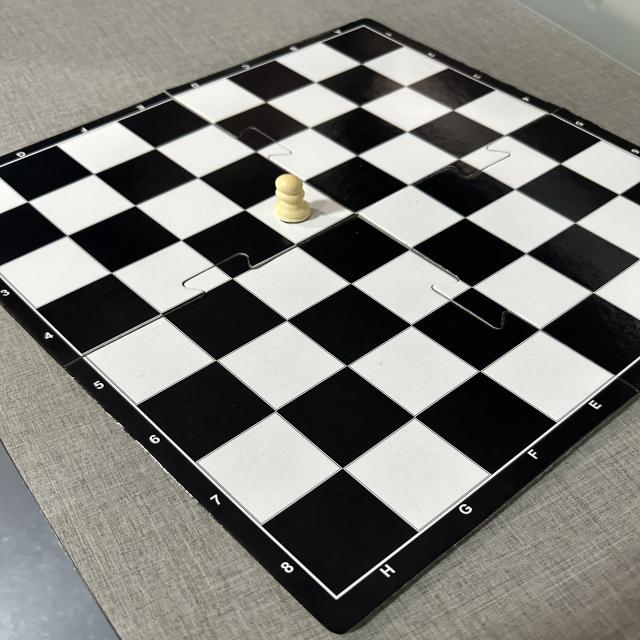White-Pawn: (274, 174, 312, 224)
